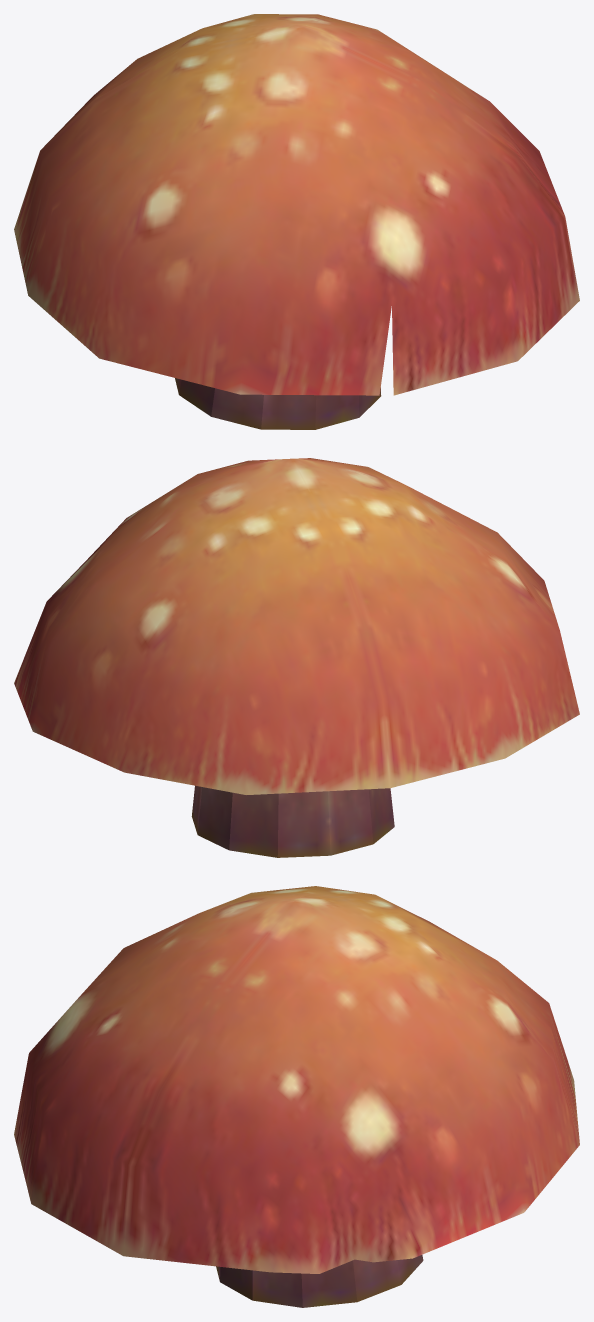
The model's file is gonghui_mogu_03 (9).fbx.
The picture shows the model from 3 angles, top to bottom: view 1: azimuth 30°, elevation 25°; view 2: azimuth 150°, elevation 25°; view 3: azimuth 270°, elevation 25°; orthographic projection. The views are drawn at different scales.
Visible parts, largest first — view 1: gonghui_mogu_03 (9); view 2: gonghui_mogu_03 (9); view 3: gonghui_mogu_03 (9).
Part boxes in pixels (x1,y1,x2,y2): gonghui_mogu_03 (9): (14,14,579,429); gonghui_mogu_03 (9): (14,458,579,857); gonghui_mogu_03 (9): (14,886,579,1307).
Bounding box in the file's own units: 0.2186 × 0.1548 × 0.2145.
